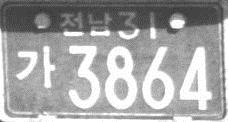1: (147, 10, 159, 41)
3: (67, 43, 100, 109), (116, 10, 140, 41)
4: (177, 45, 212, 111)
6: (141, 45, 175, 109)
8: (104, 45, 138, 110)
가: (15, 45, 57, 89)
전남_O: (59, 9, 113, 38)
